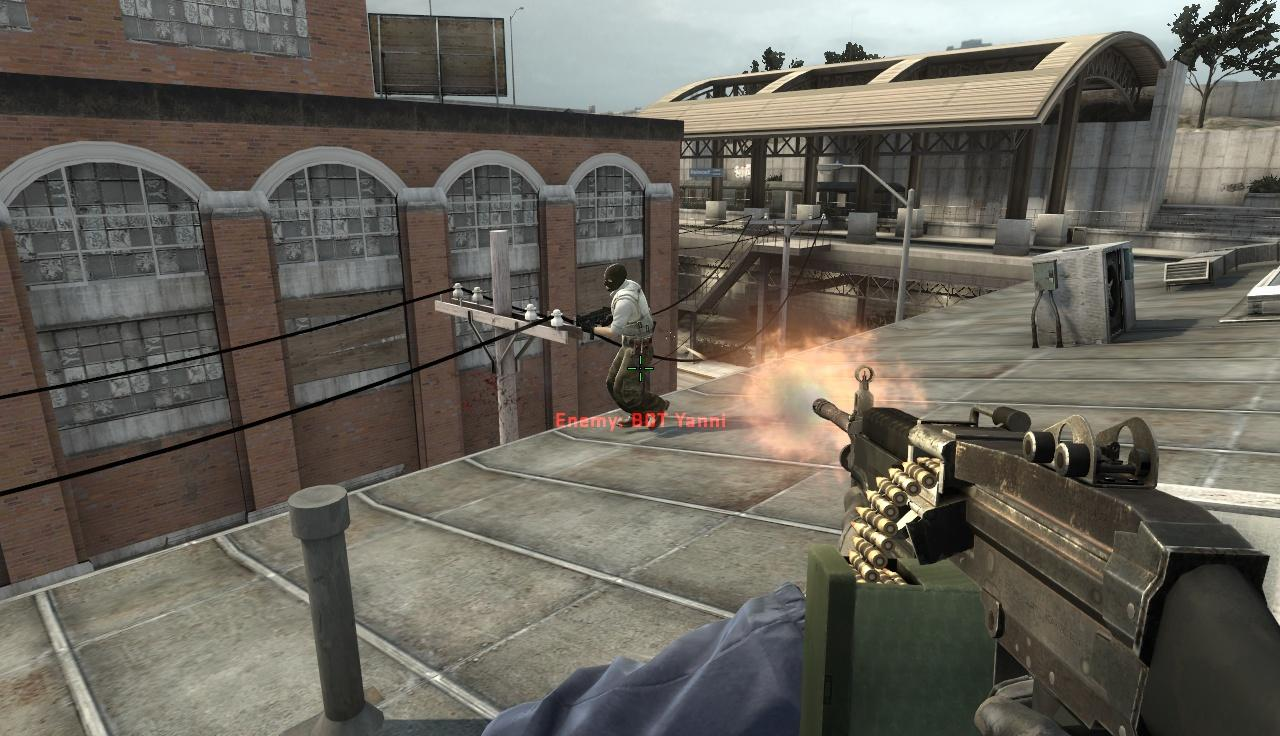rifle: (816, 364, 1280, 734)
tt: (594, 265, 659, 432)
tthead: (603, 263, 627, 293)
